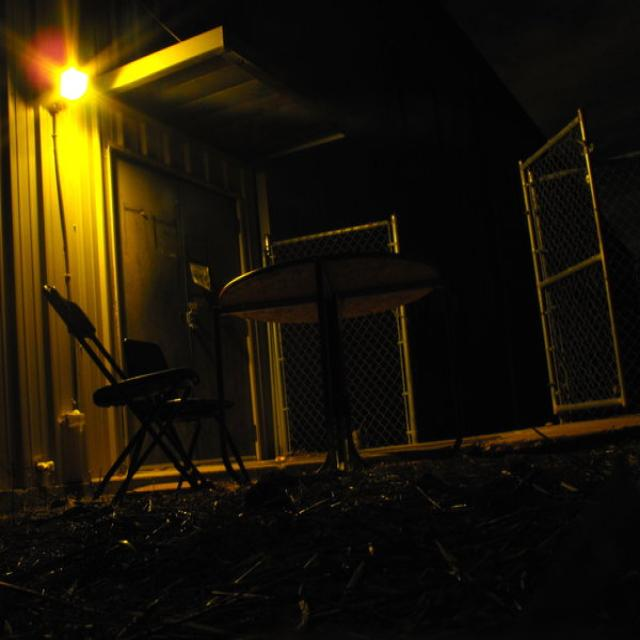Table: (211, 230, 445, 485)
chair: (38, 252, 216, 520), (98, 310, 257, 495)
